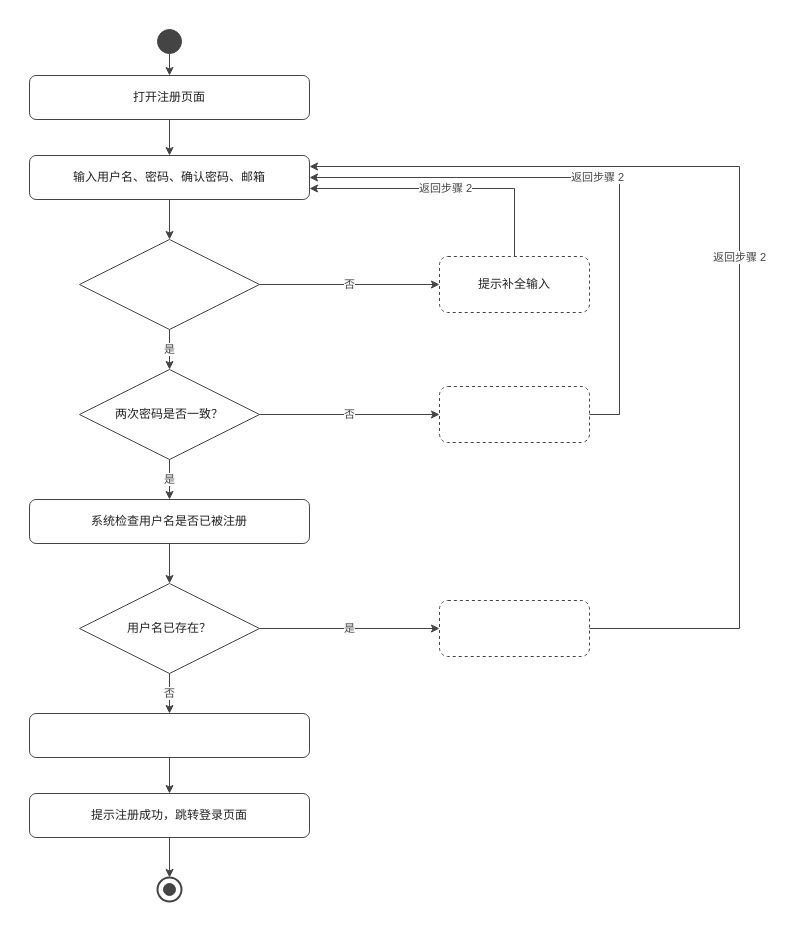
This 798x930 diagram has some shape labels left out. Here are the shapes that lost their labels. From the top down, the centre of each, then its label:
the point at 169,284: 信息是否完整？
the point at 514,414: 提示密码不一致
the point at 514,628: 提示用户名已被占用
the point at 169,735: 创建新账户
